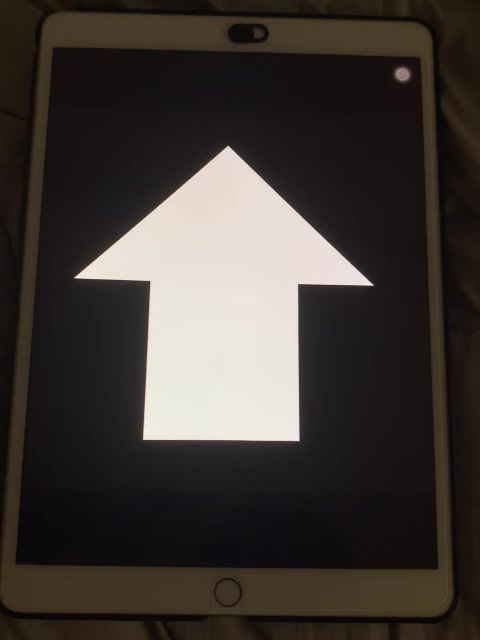up: (69, 142, 376, 447)
